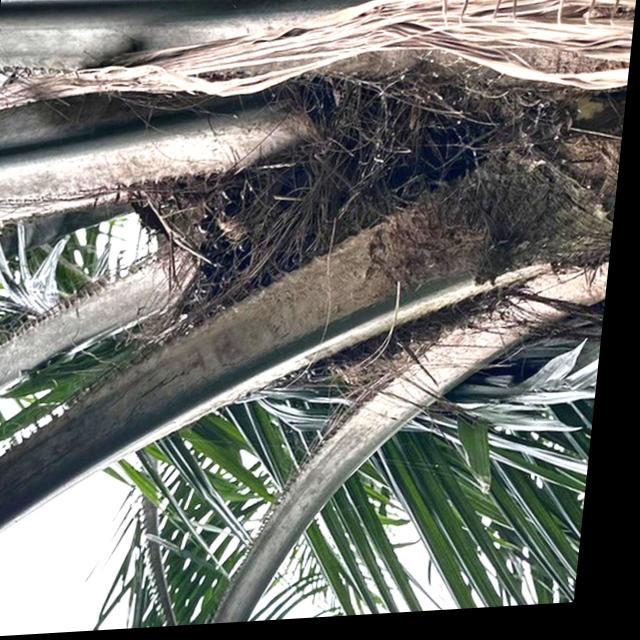unripe: (154, 147, 444, 401)
